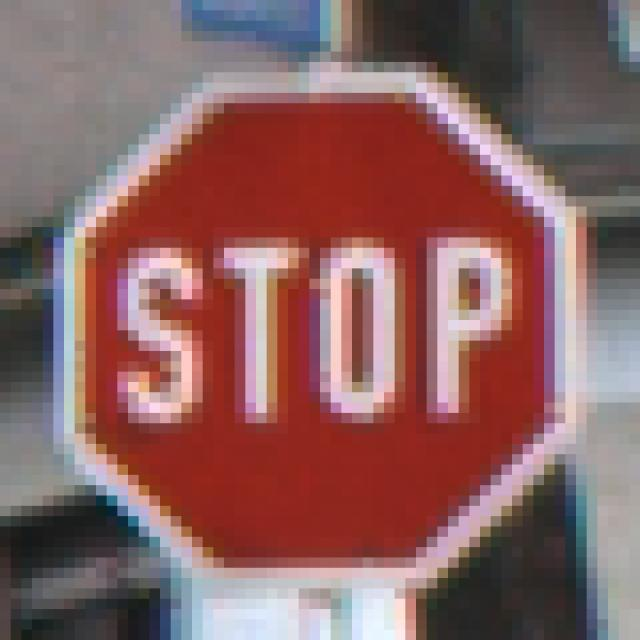STOP: (54, 63, 588, 589)
